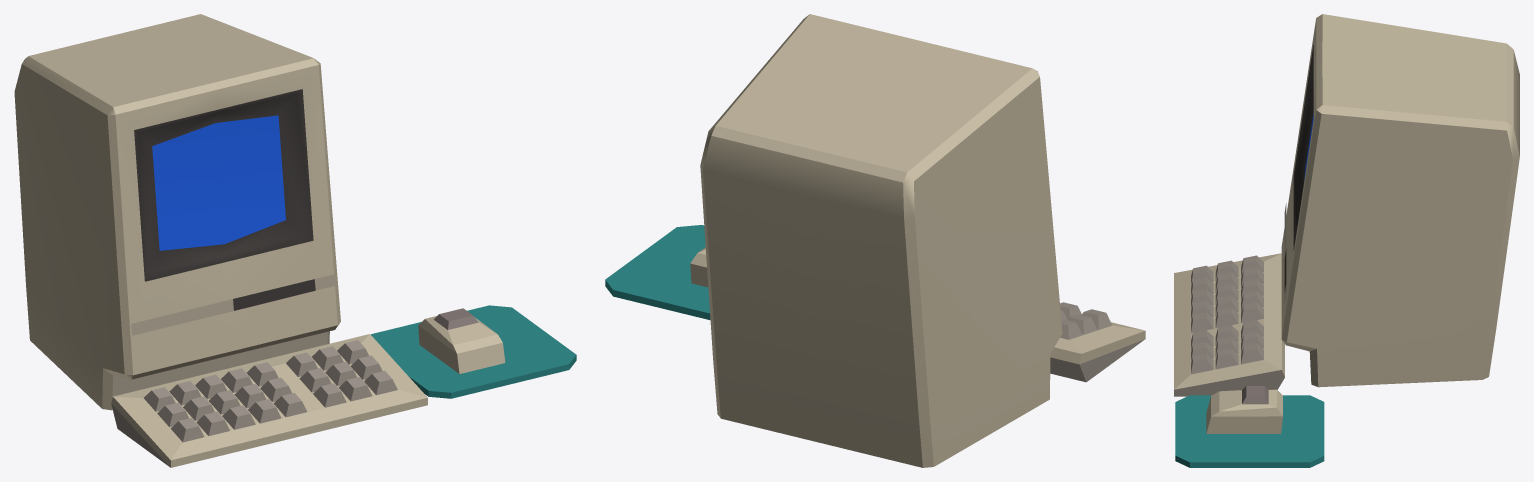
3 renders of one model, left to right at view 1: azimuth 30°, elevation 25°; view 2: azimuth 150°, elevation 25°; view 3: azimuth 270°, elevation 25°, orthographic. The views are drawn at different scales.
Parts seen in each view (by area): view 1: monitor_and_body, keyboard, keyboard_keys, mousepad, mouse; view 2: monitor_and_body, mousepad, keyboard, keyboard_keys, mouse; view 3: monitor_and_body, mousepad, keyboard, keyboard_keys, mouse.
Part boxes in pixels (x1,y1,x2,y2): monitor_and_body: (14, 14, 340, 410); keyboard: (111, 334, 427, 467); keyboard_keys: (144, 340, 397, 442); mousepad: (371, 305, 576, 398); mouse: (418, 308, 505, 373); monitor_and_body: (700, 14, 1062, 467); mousepad: (605, 225, 710, 320); keyboard: (1050, 322, 1145, 382); keyboard_keys: (1060, 302, 1112, 339); mouse: (690, 247, 708, 287); monitor_and_body: (1281, 14, 1519, 387); mousepad: (1175, 395, 1324, 467); keyboard: (1174, 253, 1284, 396); keyboard_keys: (1191, 255, 1263, 374); mouse: (1206, 386, 1282, 433).
Bounding box in the file's own units: 0.1022 × 0.07 × 0.0795.
